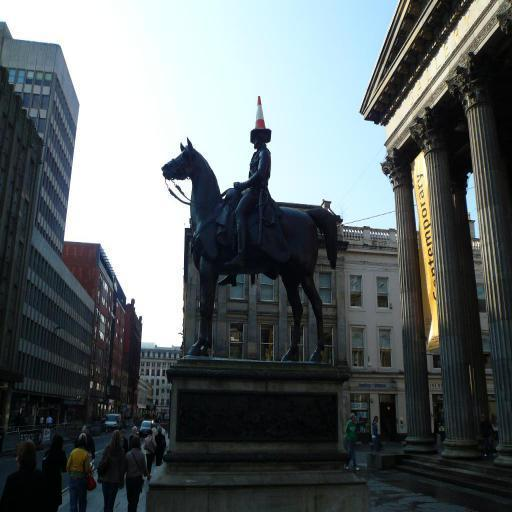horse: (158, 136, 336, 362)
